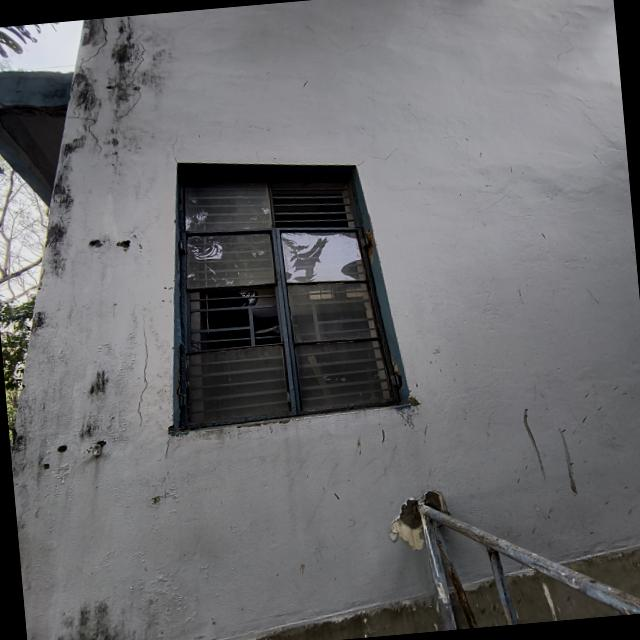crack: (0, 120, 44, 177), (136, 309, 151, 428), (78, 18, 110, 71), (67, 112, 103, 158), (113, 85, 143, 122), (130, 30, 147, 83)
peeling: (32, 418, 236, 640), (390, 490, 448, 550), (0, 102, 67, 120)
stain_mould: (102, 15, 170, 163), (13, 307, 52, 530), (40, 133, 86, 280), (49, 600, 149, 640), (435, 540, 478, 628), (75, 367, 117, 442), (69, 64, 101, 127)
